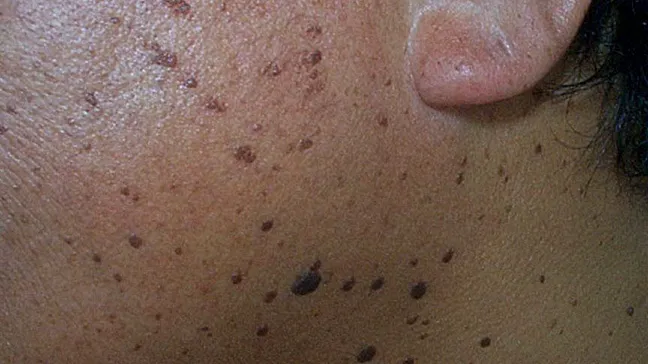Flek Hitam: (32, 3, 648, 364)
